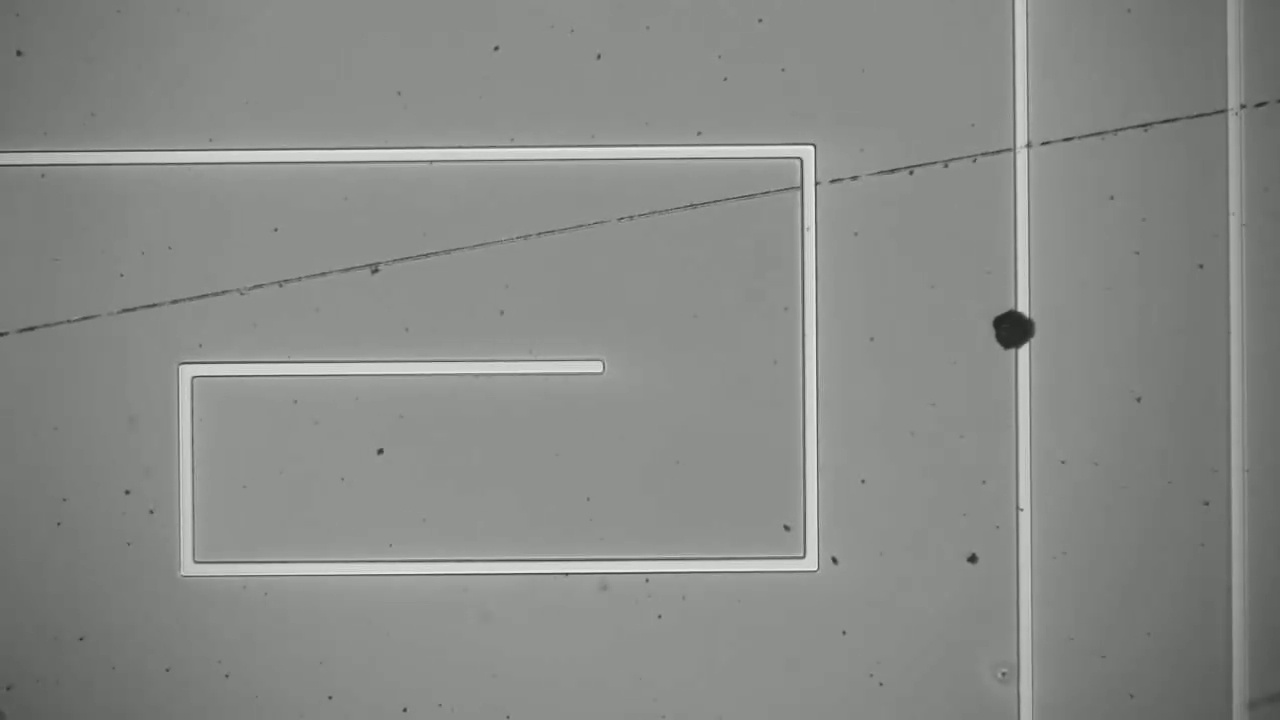scratch: (0, 98, 1271, 338)
stains_enbedded: (979, 298, 1046, 361)
